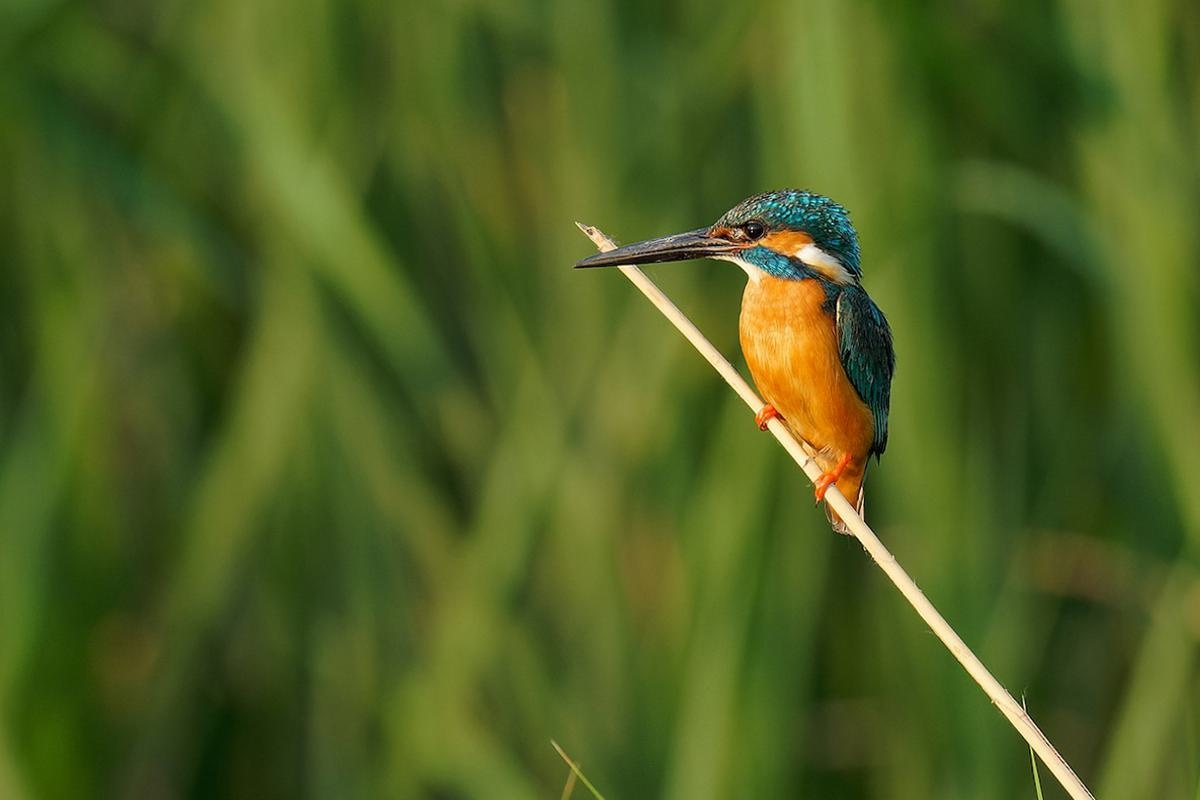kingfisher: (578, 180, 978, 506)
